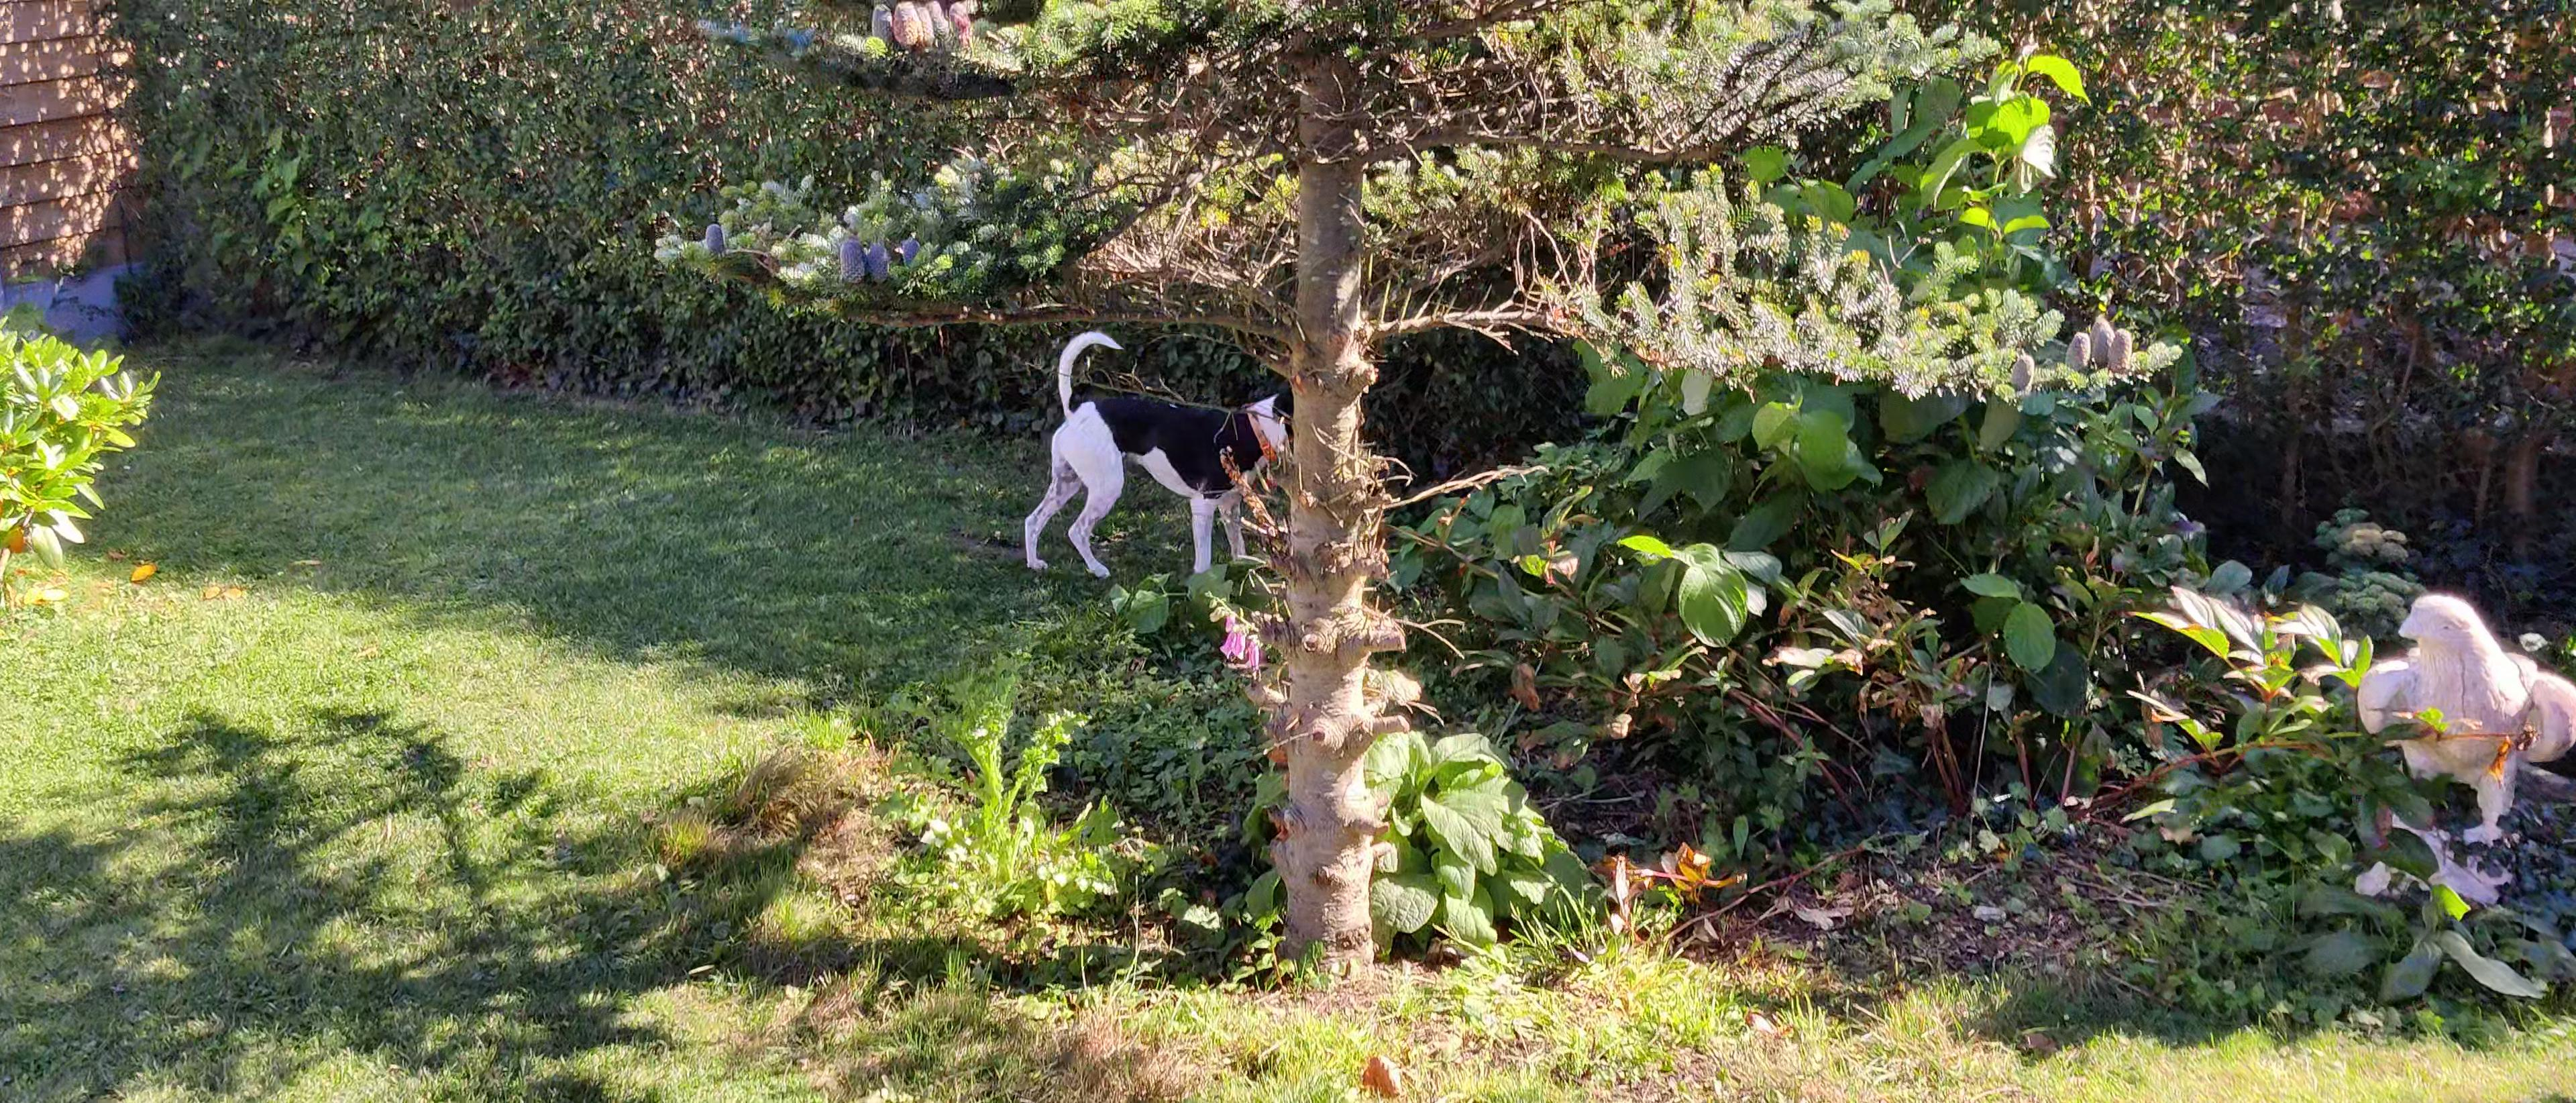Dog: (1017, 325, 1295, 577)
